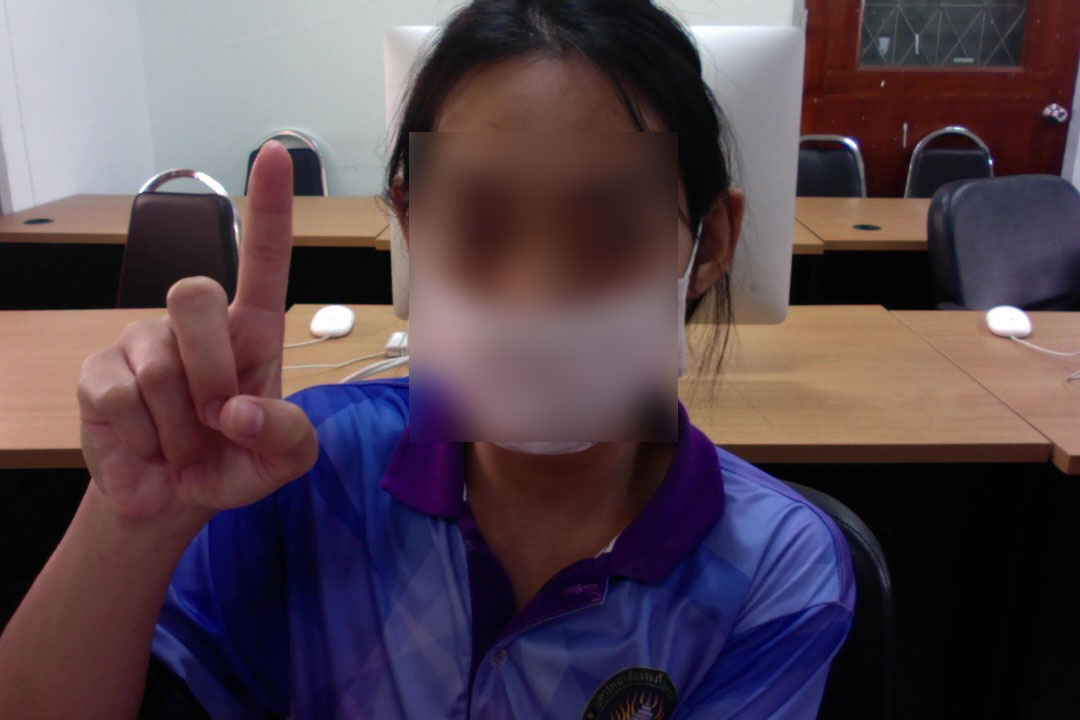dor: (54, 130, 348, 521)
